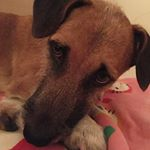puppy: (14, 3, 150, 148)
